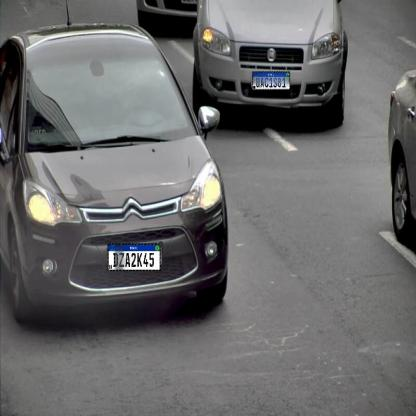PlacaM: (108, 243, 160, 271), (252, 72, 290, 90)
